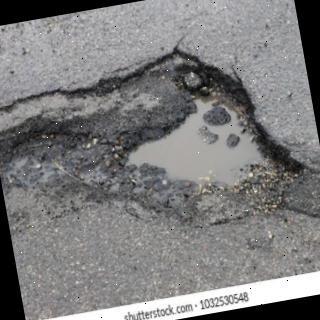pothole: (0, 49, 320, 241)
